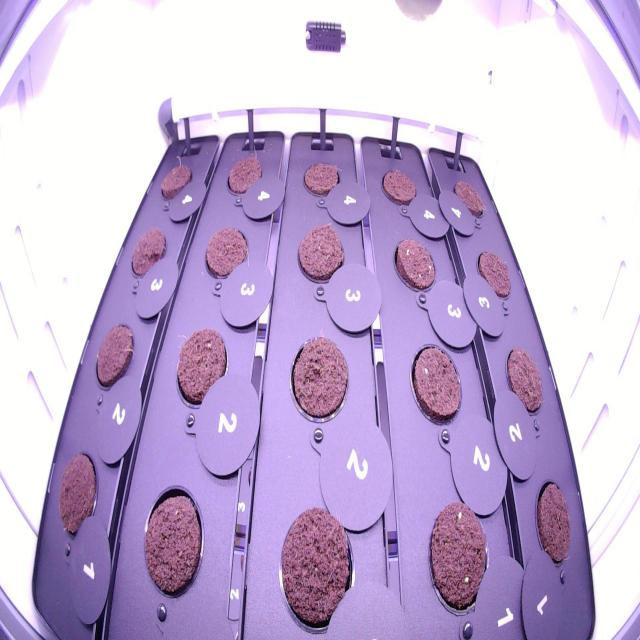pod: (272, 497, 364, 636), (135, 473, 208, 608), (424, 489, 494, 627), (284, 322, 354, 438), (404, 336, 468, 435), (172, 318, 232, 415), (53, 442, 103, 546), (531, 465, 574, 580), (289, 214, 351, 291), (500, 337, 546, 424), (92, 315, 140, 398), (200, 219, 253, 291), (390, 230, 439, 300), (126, 220, 170, 291), (470, 241, 514, 308), (222, 144, 268, 206), (446, 169, 489, 229), (374, 158, 419, 212), (296, 156, 345, 204), (155, 152, 197, 205)
